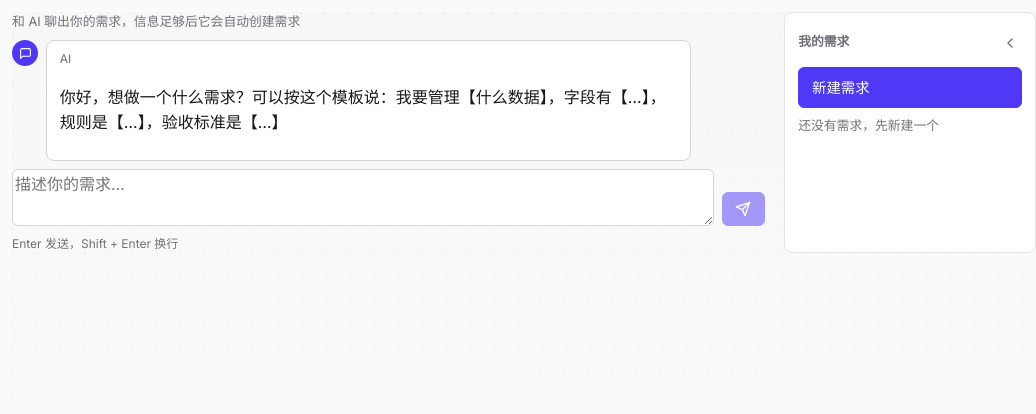
IssueWorkshopView 工坊失败路径（FR-ISSUE-09） › 发送失败内联报错且原稿保留
In the text box with test id "workshop-input": (363, 197) [12, 169, 714, 226], type "需求"
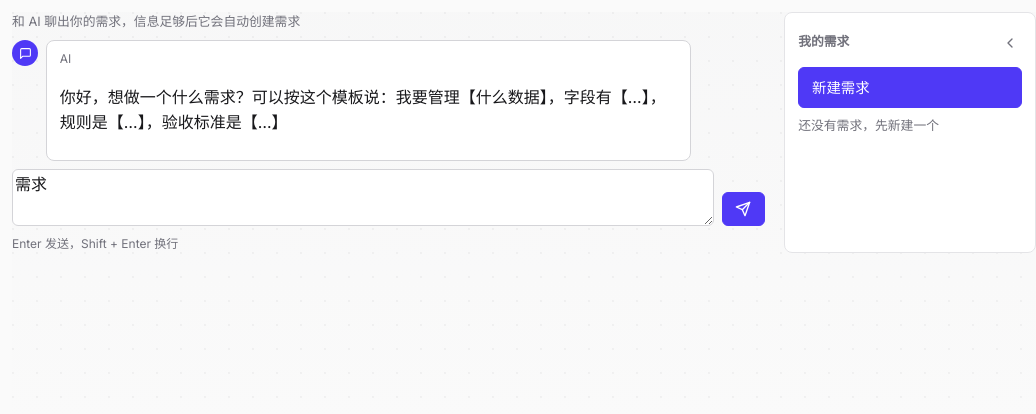
Click the button with test id "workshop-send": (743, 209) [722, 192, 765, 226]
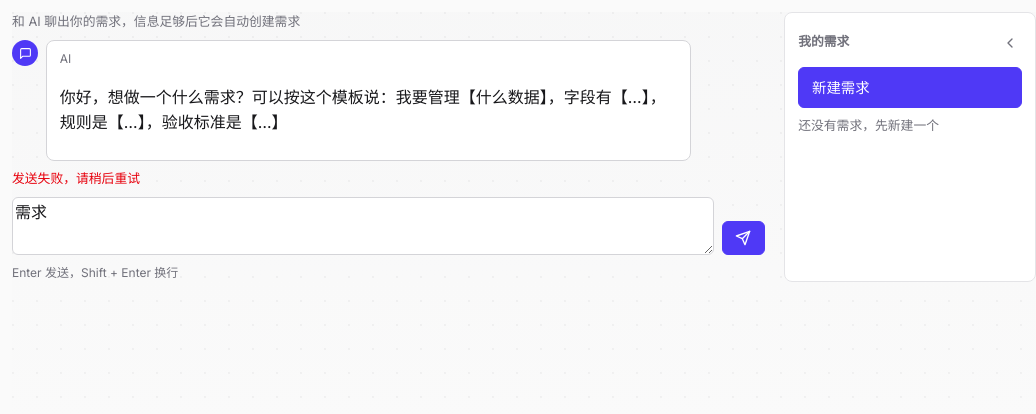
Expected: the message "发送失败，请稍后重试" is shown, [12, 171, 140, 186]
